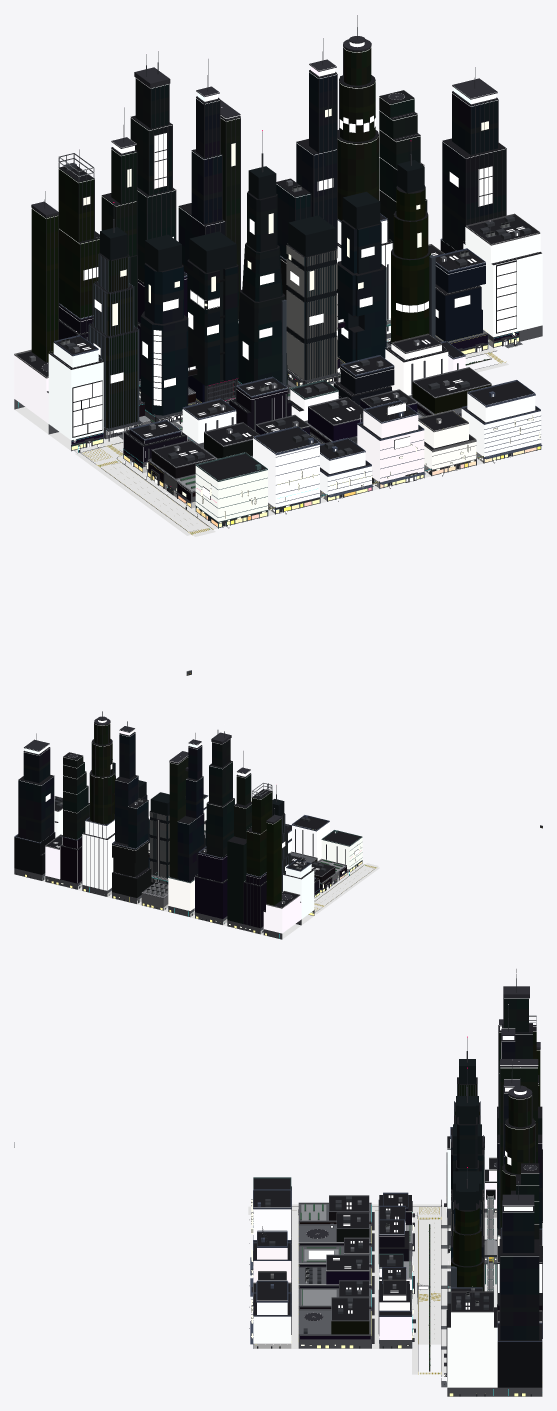
File: world-phone-corpo.glb
3 renders of one model, top to bottom at view 1: azimuth 30°, elevation 25°; view 2: azimuth 150°, elevation 25°; view 3: azimuth 270°, elevation 25°, orthographic. The views are drawn at different scales.
Visible parts, largest first — view 1: corpo_corporate, corpo_trim, corpo_facade, corpo_roof, corpo_billboard, corpo_crown_glass, corpo_castconcrete, corpo_glow, corpo_board_frame, corpo_metal, corpo_asphalt, corpo_sidewalk (+3 smaller); view 2: corpo_corporate, corpo_facade, corpo_trim, corpo_roof, corpo_glow, corpo_castconcrete, corpo_sidewalk, corpo_crown_glass, corpo_asphalt, corpo_metal, corpo_steel; view 3: corpo_corporate, corpo_trim, corpo_roof, corpo_facade, corpo_asphalt, corpo_crown_glass, corpo_sidewalk, corpo_concrete, corpo_metal, corpo_glow, corpo_castconcrete, corpo_steel (+1 smaller).
Part boxes in pixels (x1=…): corpo_corporate: x1=31, y1=48, x2=518, y2=501; corpo_trim: x1=14, y1=36, x2=542, y2=535; corpo_facade: x1=14, y1=220, x2=542, y2=521; corpo_roof: x1=17, y1=71, x2=541, y2=480; corpo_billboard: x1=73, y1=115, x2=516, y2=527; corpo_crown_glass: x1=100, y1=160, x2=424, y2=272; corpo_castconcrete: x1=139, y1=243, x2=390, y2=490; corpo_glow: x1=15, y1=14, x2=542, y2=491; corpo_board_frame: x1=72, y1=108, x2=540, y2=527; corpo_metal: x1=44, y1=15, x2=531, y2=461; corpo_asphalt: x1=80, y1=428, x2=215, y2=536; corpo_sidewalk: x1=14, y1=341, x2=539, y2=535; corpo_corporate: x1=14, y1=723, x2=346, y2=927; corpo_facade: x1=45, y1=796, x2=362, y2=933; corpo_trim: x1=14, y1=716, x2=375, y2=939; corpo_roof: x1=16, y1=732, x2=360, y2=912; corpo_glow: x1=18, y1=704, x2=343, y2=911; corpo_castconcrete: x1=149, y1=811, x2=339, y2=883; corpo_sidewalk: x1=14, y1=863, x2=379, y2=939; corpo_crown_glass: x1=112, y1=762, x2=284, y2=815; corpo_asphalt: x1=311, y1=863, x2=378, y2=912; corpo_metal: x1=36, y1=711, x2=326, y2=879; corpo_steel: x1=151, y1=783, x2=345, y2=881; corpo_corporate: x1=300, y1=998, x2=542, y2=1387; corpo_trim: x1=249, y1=986, x2=542, y2=1396; corpo_roof: x1=253, y1=1023, x2=542, y2=1340; corpo_facade: x1=253, y1=1139, x2=542, y2=1387; corpo_asphalt: x1=248, y1=1206, x2=440, y2=1344; corpo_crown_glass: x1=453, y1=1059, x2=481, y2=1210; corpo_sidewalk: x1=254, y1=1204, x2=542, y2=1396; corpo_concrete: x1=253, y1=1212, x2=496, y2=1348; corpo_metal: x1=265, y1=969, x2=532, y2=1384; corpo_glow: x1=253, y1=968, x2=541, y2=1381; corpo_castconcrete: x1=451, y1=1189, x2=493, y2=1291; corpo_steel: x1=262, y1=1015, x2=536, y2=1334.
Bounding box in the file's own units: 472 × 249 × 420.
